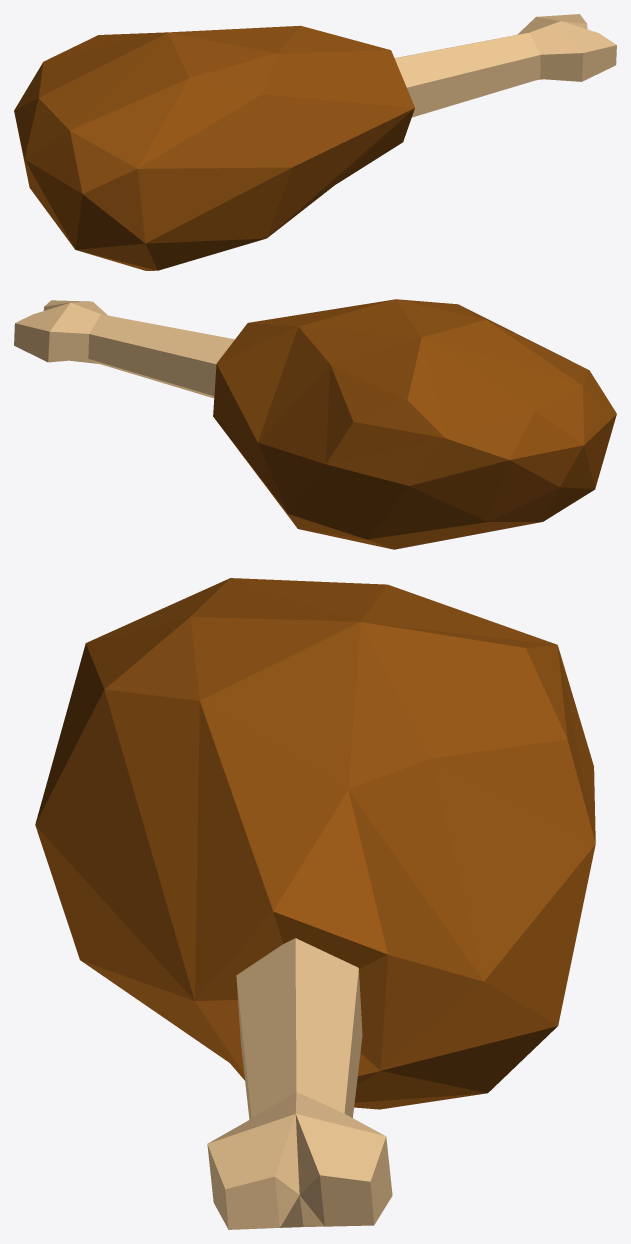
File: Drumstick.glb
3 views of the same model, one above another, from view 1: azimuth 30°, elevation 25°; view 2: azimuth 150°, elevation 25°; view 3: azimuth 270°, elevation 25° (orthographic). The views are drawn at different scales.
Visible parts, largest first — view 1: Drumstick; view 2: Drumstick; view 3: Drumstick.
Part boxes in pixels (box(x1,y1,x2,y2)): Drumstick: box(14, 14, 616, 270); Drumstick: box(14, 299, 616, 549); Drumstick: box(35, 578, 595, 1229).
Size of the model in its own units: 0.2332 by 0.0827 by 0.1018.
